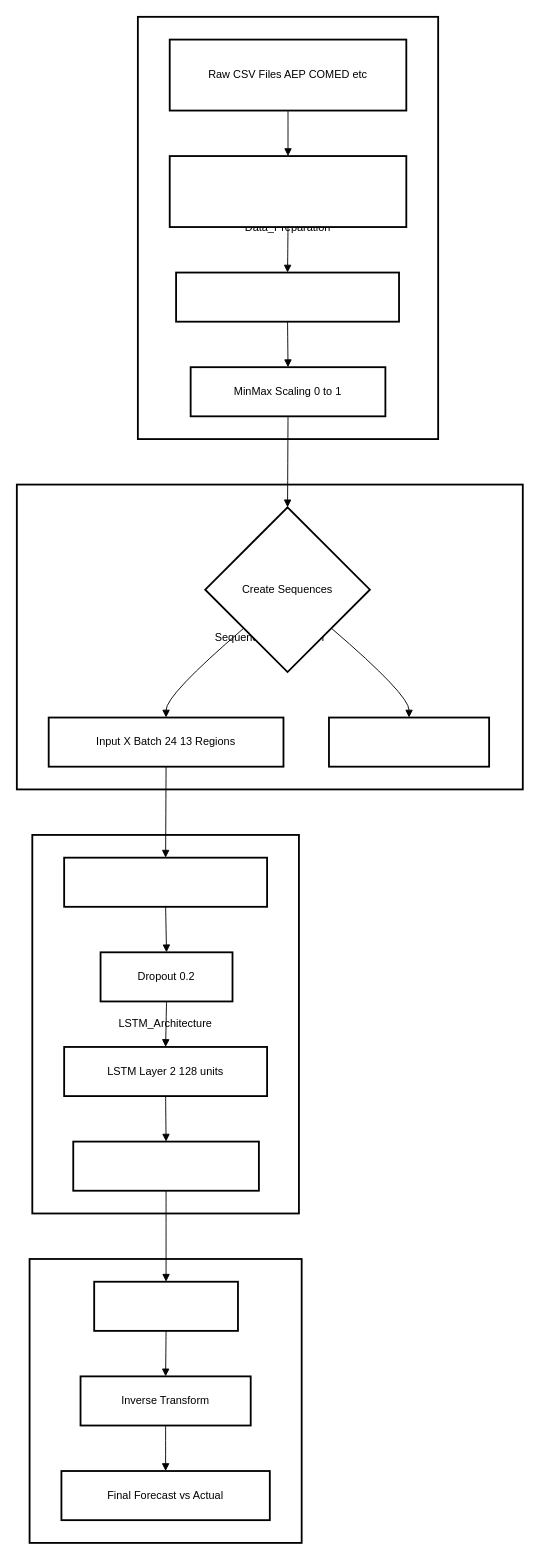
Image size: 539x1559. Some labels were removed from this diagram. Here are the shapes that lost their labels. From the top down, the centre of each, then its label:
[287,191]: Merge and Align Timestamps
[287,296]: Interpolate Missing Values
[409,741]: Target y Batch 1
[165,881]: LSTM Layer 1 128 units
[165,1165]: Linear Output Layer
[165,1305]: Predicted MW
